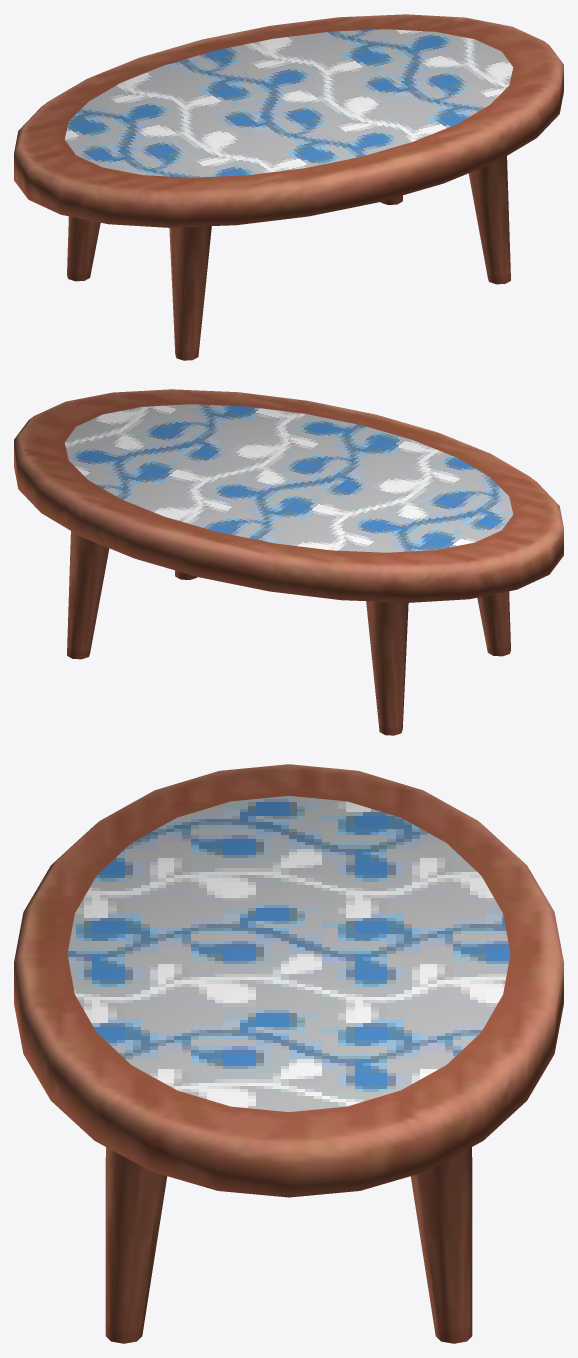
Rendered from rmk_scd_tableM.dae.
3 renders of one model, top to bottom at view 1: azimuth 30°, elevation 25°; view 2: azimuth 150°, elevation 25°; view 3: azimuth 270°, elevation 25°, orthographic. The views are drawn at different scales.
Visible parts, largest first — view 1: vsn_mesh_0_, vsn_mesh_1_; view 2: vsn_mesh_0_, vsn_mesh_1_; view 3: vsn_mesh_1_, vsn_mesh_0_.
Boxes of the visible parts, x1=… form: vsn_mesh_0_: x1=14, y1=14, x2=563, y2=360; vsn_mesh_1_: x1=64, y1=29, x2=513, y2=177; vsn_mesh_0_: x1=14, y1=389, x2=563, y2=735; vsn_mesh_1_: x1=64, y1=404, x2=513, y2=552; vsn_mesh_1_: x1=67, y1=796, x2=510, y2=1111; vsn_mesh_0_: x1=14, y1=764, x2=563, y2=1343.
Bounding box in the file's own units: 50 × 16 × 30.
Materials: 2 (2 with a texture image).
